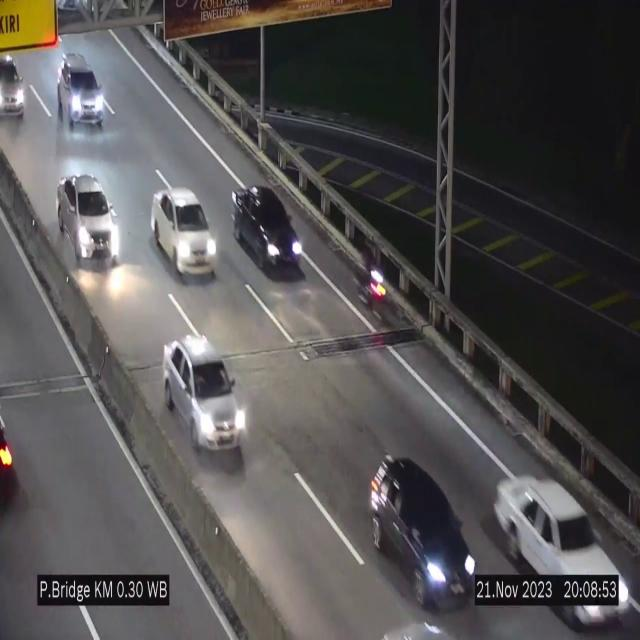Car: (486, 451, 632, 631), (371, 452, 475, 618), (163, 336, 245, 452), (231, 186, 304, 276), (152, 188, 218, 280), (57, 172, 121, 266), (56, 52, 106, 136), (0, 48, 30, 124)
Motorcycle: (357, 242, 387, 314)
